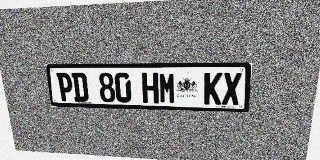0: (114, 72, 131, 103)
8: (98, 72, 116, 102)
D: (71, 72, 89, 102)
H: (142, 72, 159, 103)
K: (204, 72, 222, 105)
M: (159, 72, 176, 104)
P: (56, 72, 74, 101)
X: (222, 72, 242, 105)
